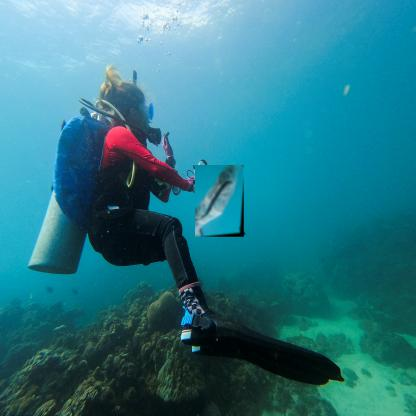waste: (195, 165, 245, 238)
